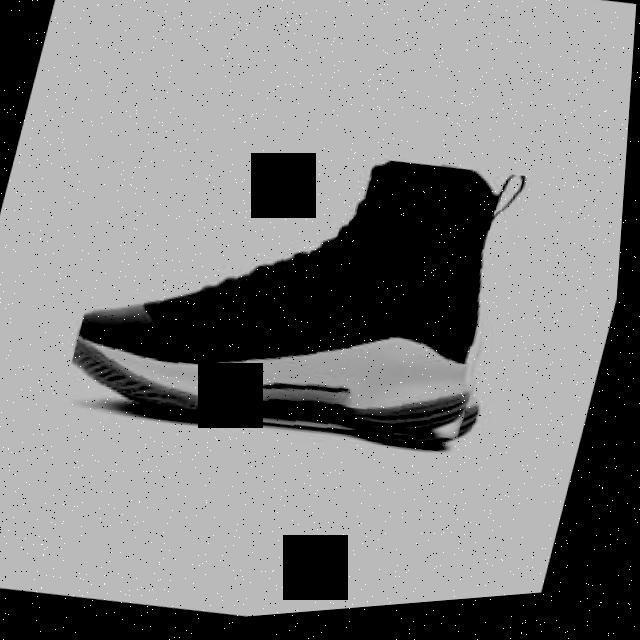shoe: (62, 107, 546, 488)
